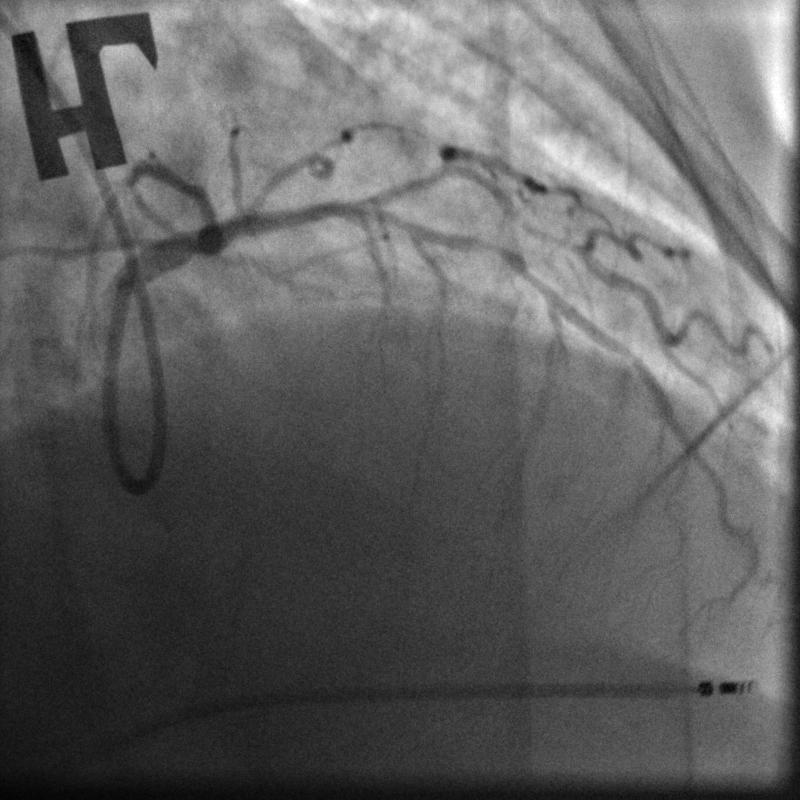Stenosis: (460, 227, 517, 267)
